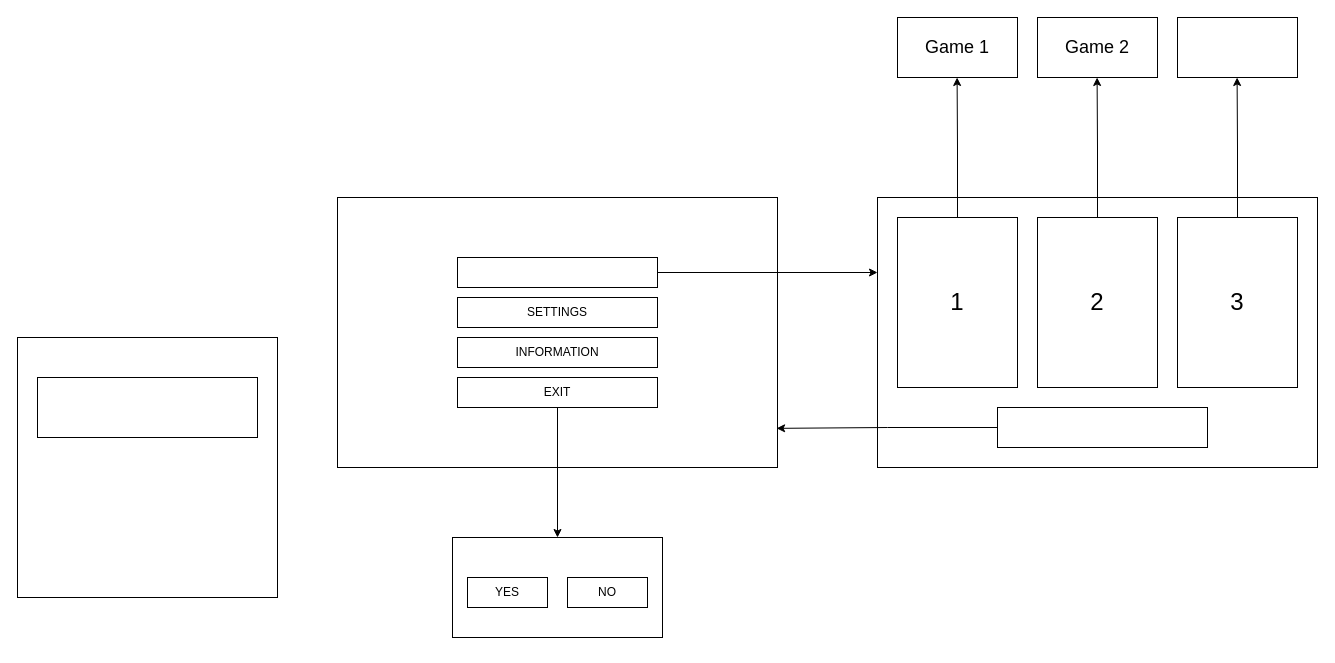
Image size: 1335x663. Some labels were removed from this diagram. Here are the shapes that lost their labels. From the top down, the box of each, then its label:
(1176, 16, 1298, 78): Game 3
(456, 256, 658, 288): START
(996, 406, 1208, 448): Back to Menu
(16, 336, 278, 598): INFORMATION ABOUT GAME LEVELІ
(452, 536, 662, 638): EXIT?
